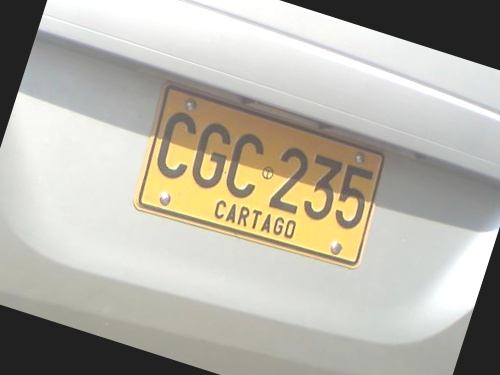placas: (122, 77, 397, 280)
